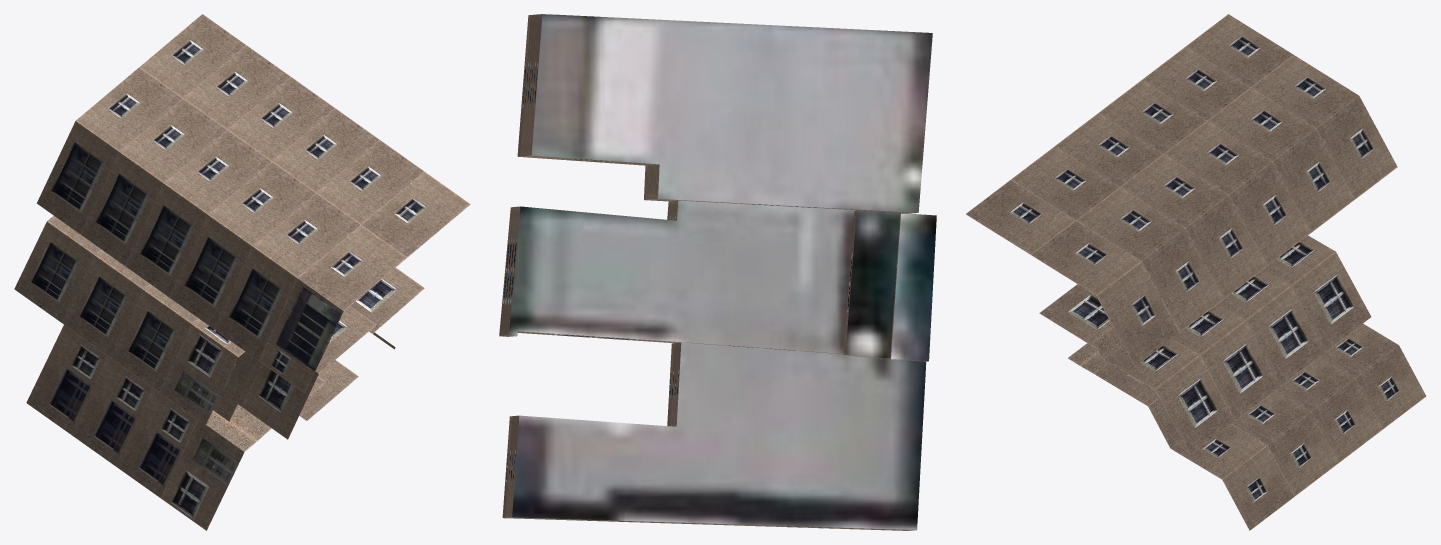
The picture shows the model from 3 angles, left to right: view 1: azimuth 30°, elevation 25°; view 2: azimuth 150°, elevation 25°; view 3: azimuth 270°, elevation 25°; orthographic projection. The views are drawn at different scales.
Size of the model in its own units: 23.83 by 25.28 by 26.05.
Materials: 18 (18 with a texture image).
